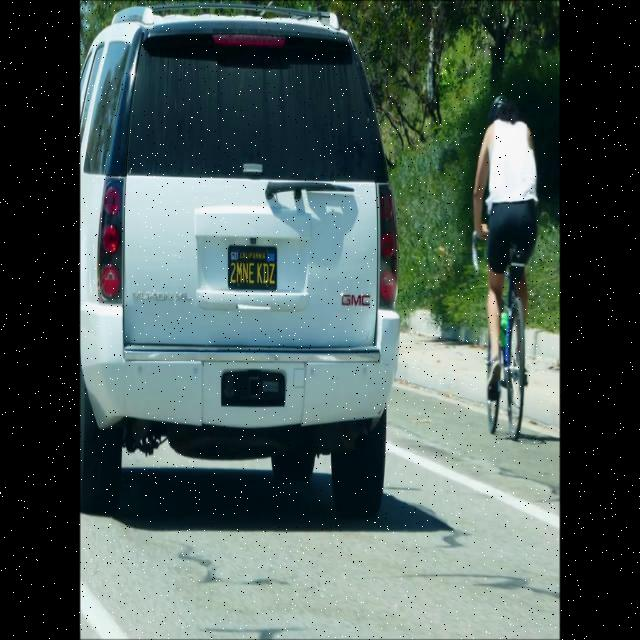licenseplate: (226, 242, 278, 288)
